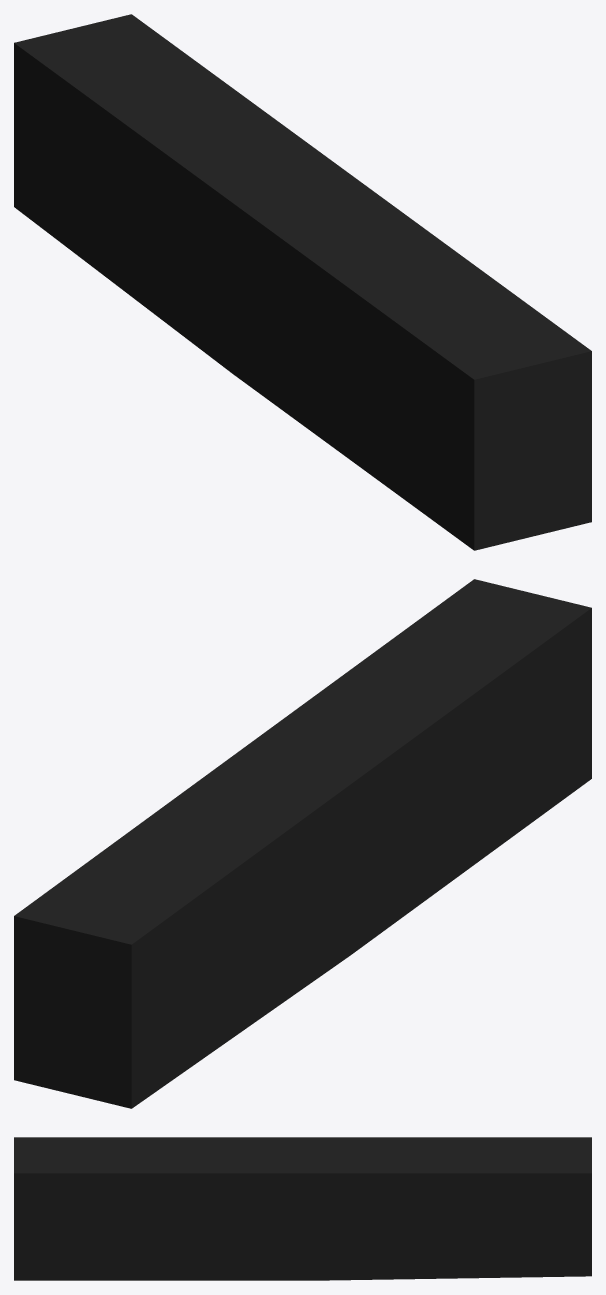
File: trailer.glb
3 renders of one model, top to bottom at view 1: azimuth 30°, elevation 25°; view 2: azimuth 150°, elevation 25°; view 3: azimuth 270°, elevation 25°, orthographic. The views are drawn at different scales.
Visible parts, largest first — view 1: vehicles/trailer; view 2: vehicles/trailer; view 3: vehicles/trailer.
Boxes of the visible parts, x1,y1,x2,y2 form: vehicles/trailer: (14, 14, 591, 550); vehicles/trailer: (14, 579, 591, 1108); vehicles/trailer: (14, 1137, 591, 1280).
Bounding box in the file's own units: 2.25 × 3.12 × 15.25.
Materials: 1 (1 with a texture image).
